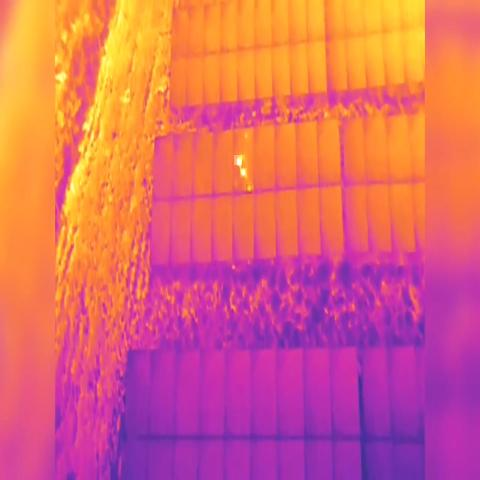fault: (234, 155, 242, 165), (240, 168, 247, 178), (246, 184, 252, 194)
